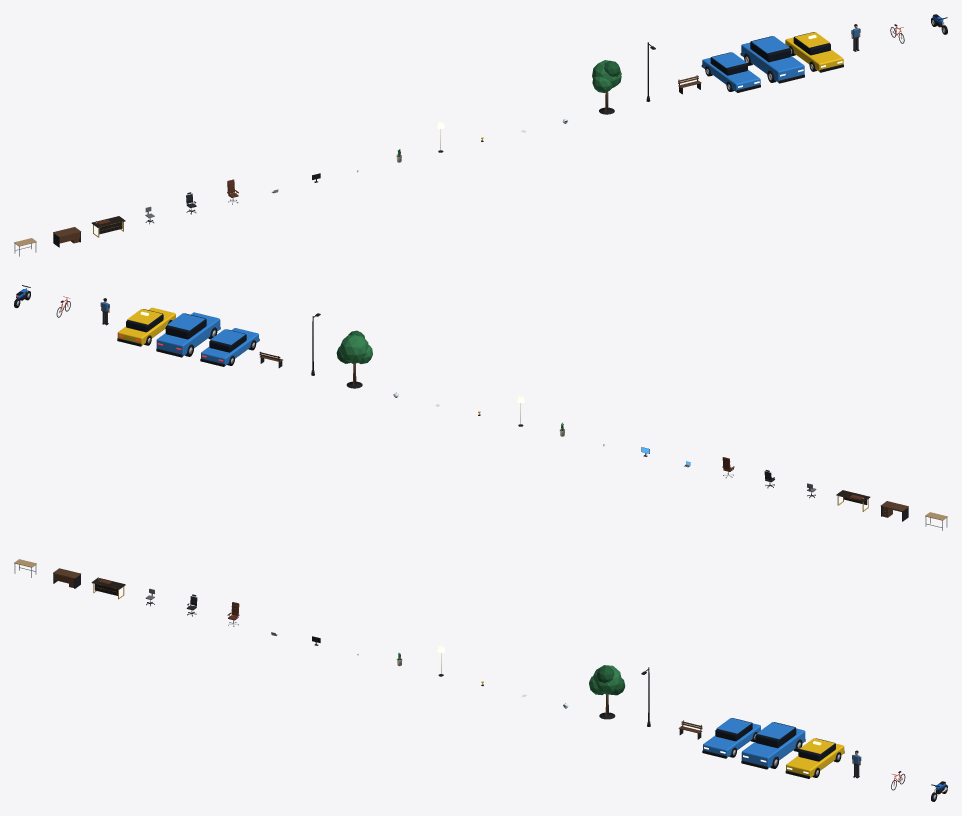
File: office_props.glb
The picture shows the model from 3 angles, top to bottom: view 1: azimuth 30°, elevation 25°; view 2: azimuth 150°, elevation 25°; view 3: azimuth 330°, elevation 25°; orthographic projection.
Parts seen in each view (by area): view 1: suv_body, sedan_body, taxi_body; view 2: suv_body, sedan_body, taxi_body, canopy0; view 3: suv_body, taxi_body, sedan_body.
Boxes of the visible parts, bbox=[...] form: suv_body: bbox=[740, 36, 804, 83]; sedan_body: bbox=[701, 52, 760, 92]; taxi_body: bbox=[785, 32, 843, 72]; suv_body: bbox=[156, 312, 220, 357]; sedan_body: bbox=[200, 328, 259, 366]; taxi_body: bbox=[117, 307, 175, 346]; canopy0: bbox=[340, 335, 368, 363]; suv_body: bbox=[741, 722, 805, 769]; taxi_body: bbox=[785, 738, 844, 778]; sedan_body: bbox=[702, 718, 760, 758].
Size of the model in its own units: 66.96 by 4.21 by 4.86.
